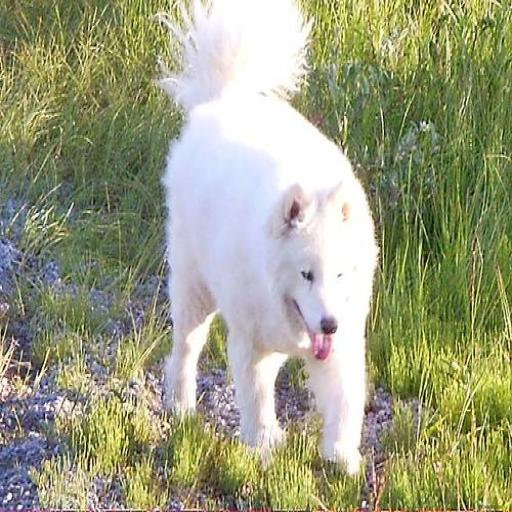dog_face: (269, 173, 353, 359)
